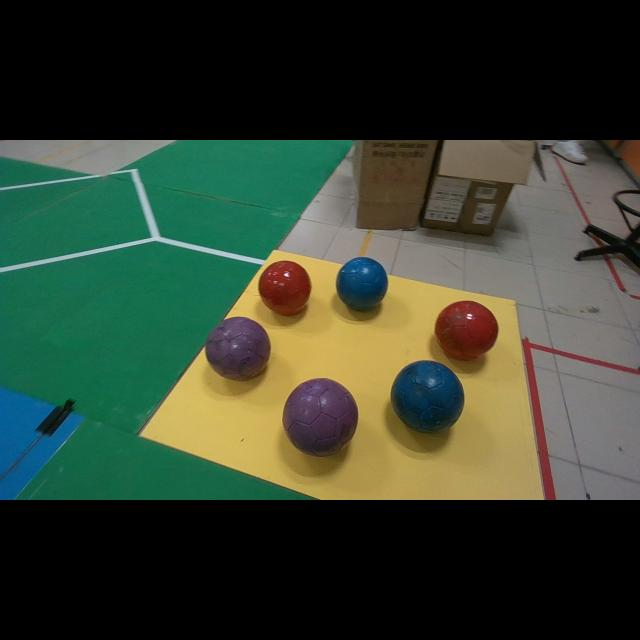P: (282, 379, 358, 456), (205, 316, 270, 380)
R: (435, 301, 499, 359), (259, 261, 311, 315)
